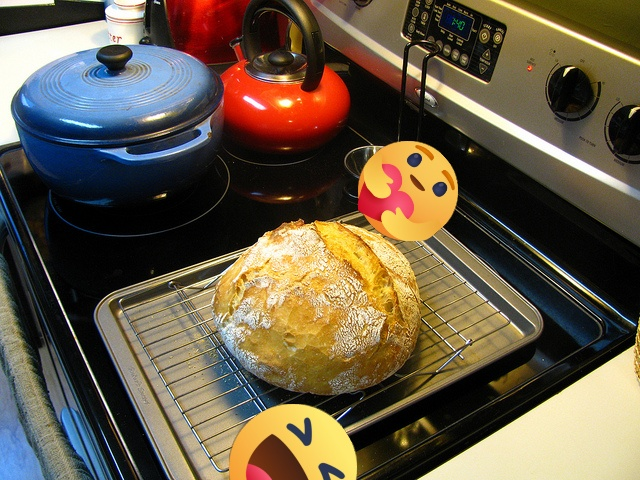care: (358, 141, 458, 241)
haha: (229, 404, 357, 480)
